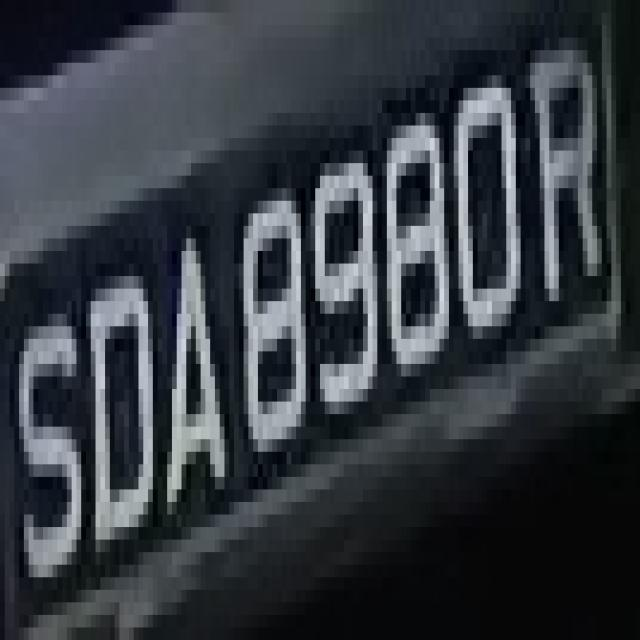0: (449, 63, 535, 376)
8: (229, 176, 315, 514), (377, 100, 468, 402)
9: (287, 100, 382, 464)
A: (148, 188, 229, 552)
D: (86, 226, 167, 565)
R: (530, 38, 611, 326)
S: (14, 276, 82, 602)
